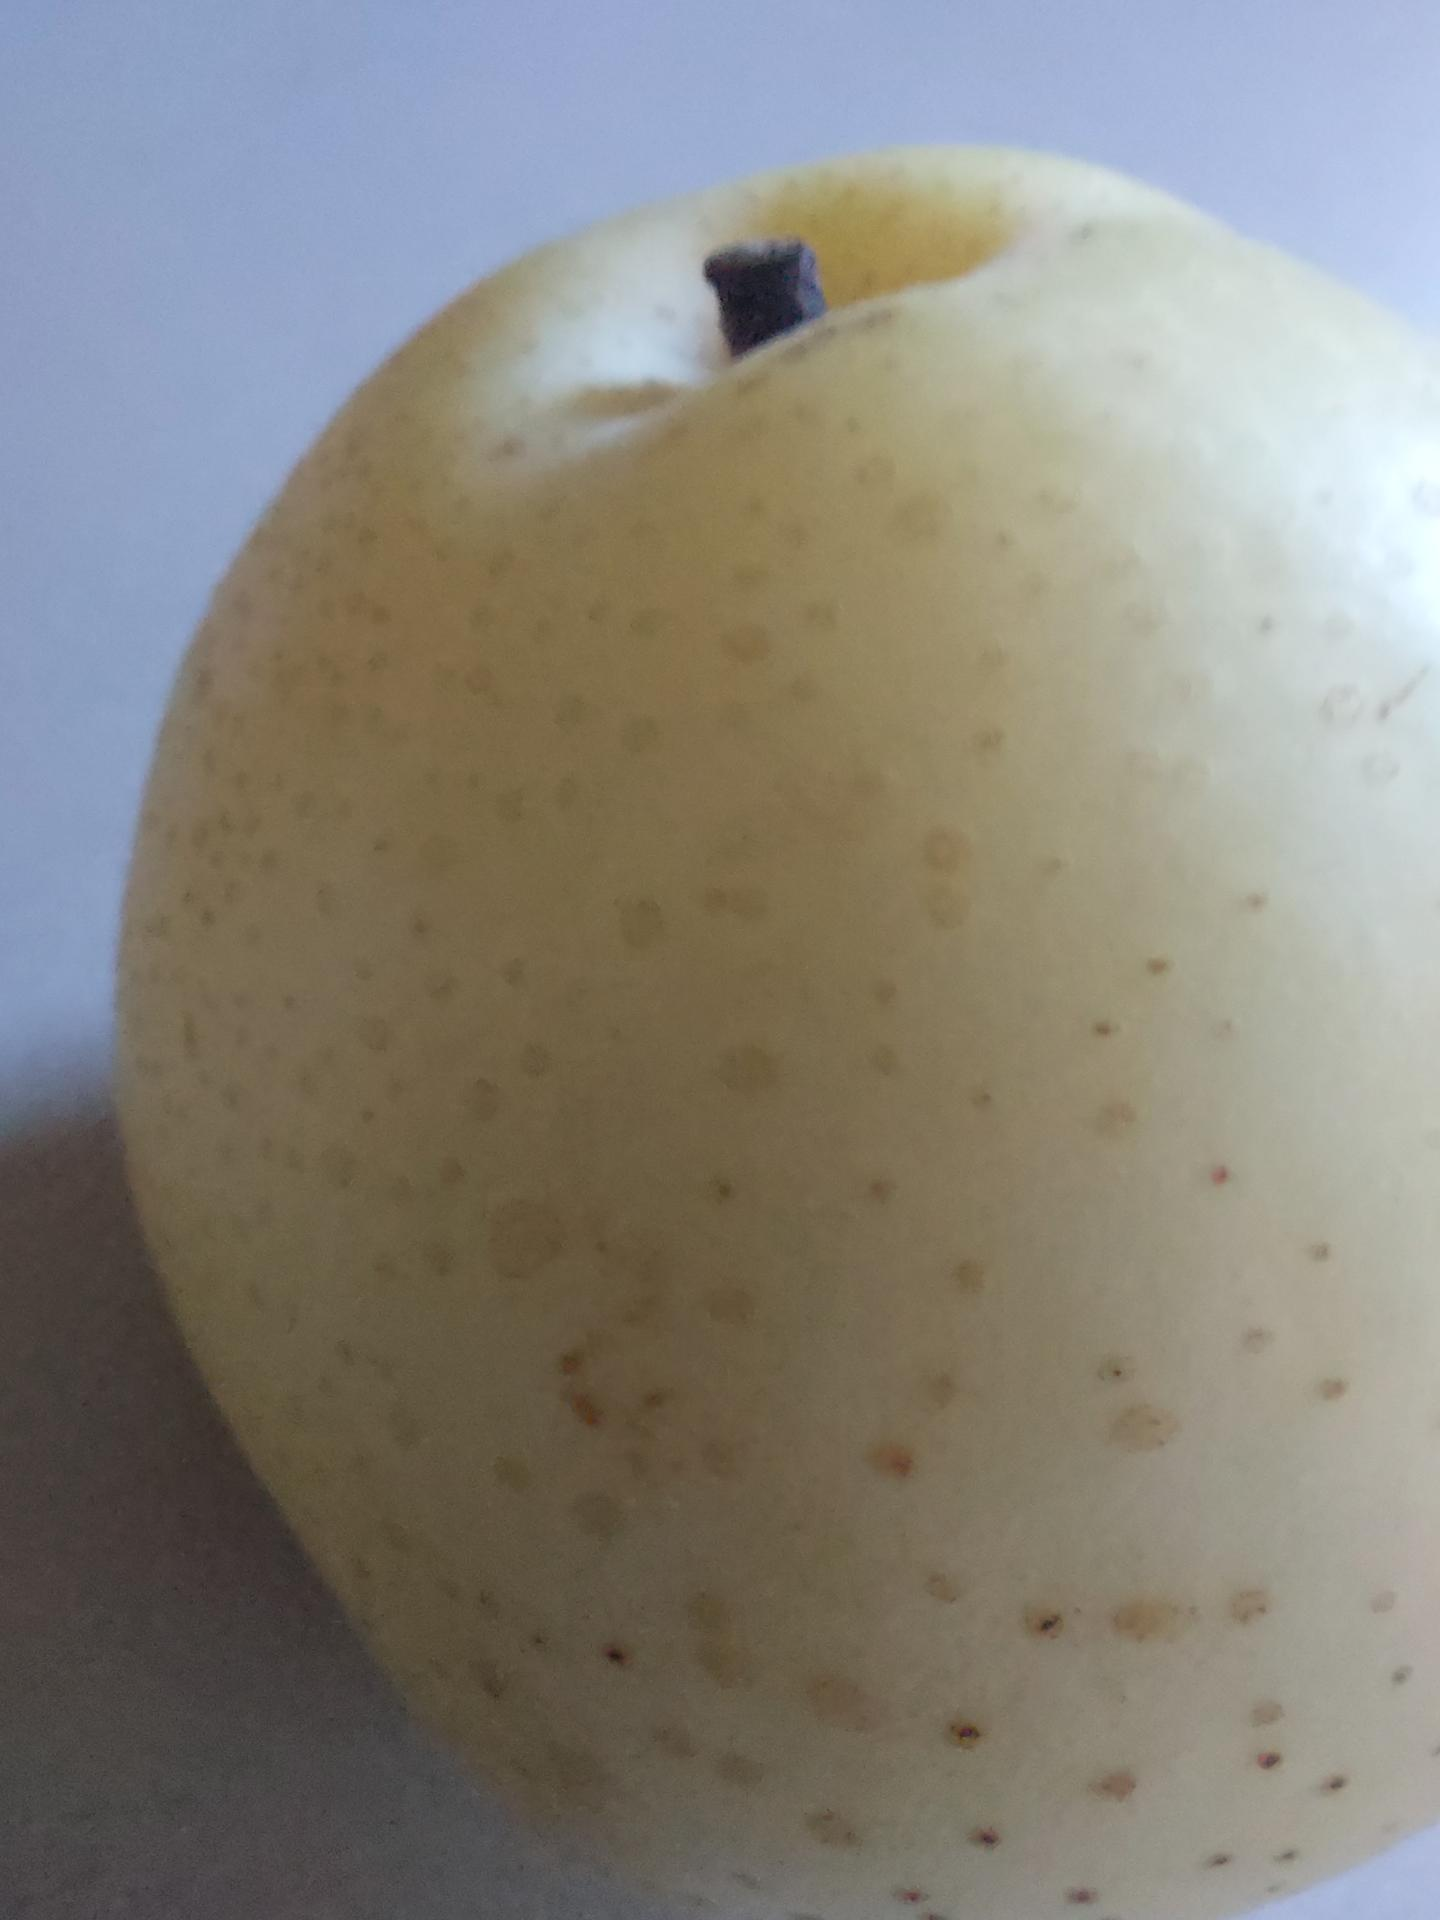Good Pear: (92, 136, 1440, 1920)
